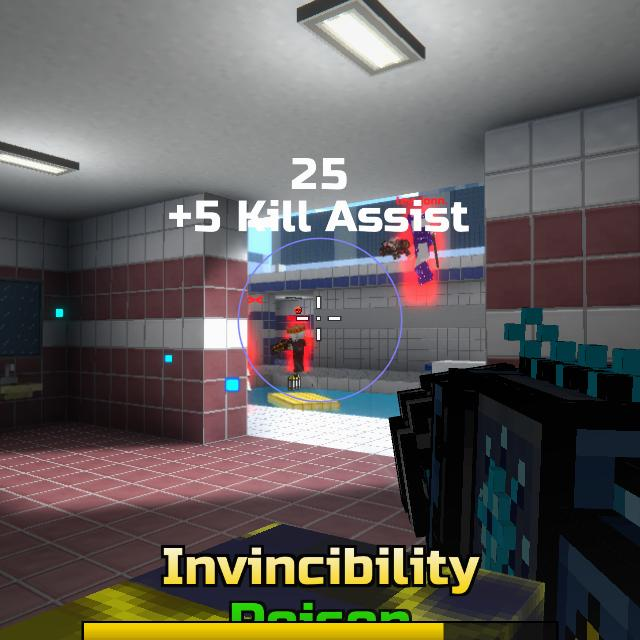Enemy: (405, 215, 435, 286), (281, 326, 306, 373)
